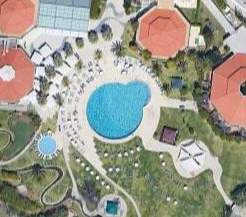pool: (89, 82, 147, 135)
